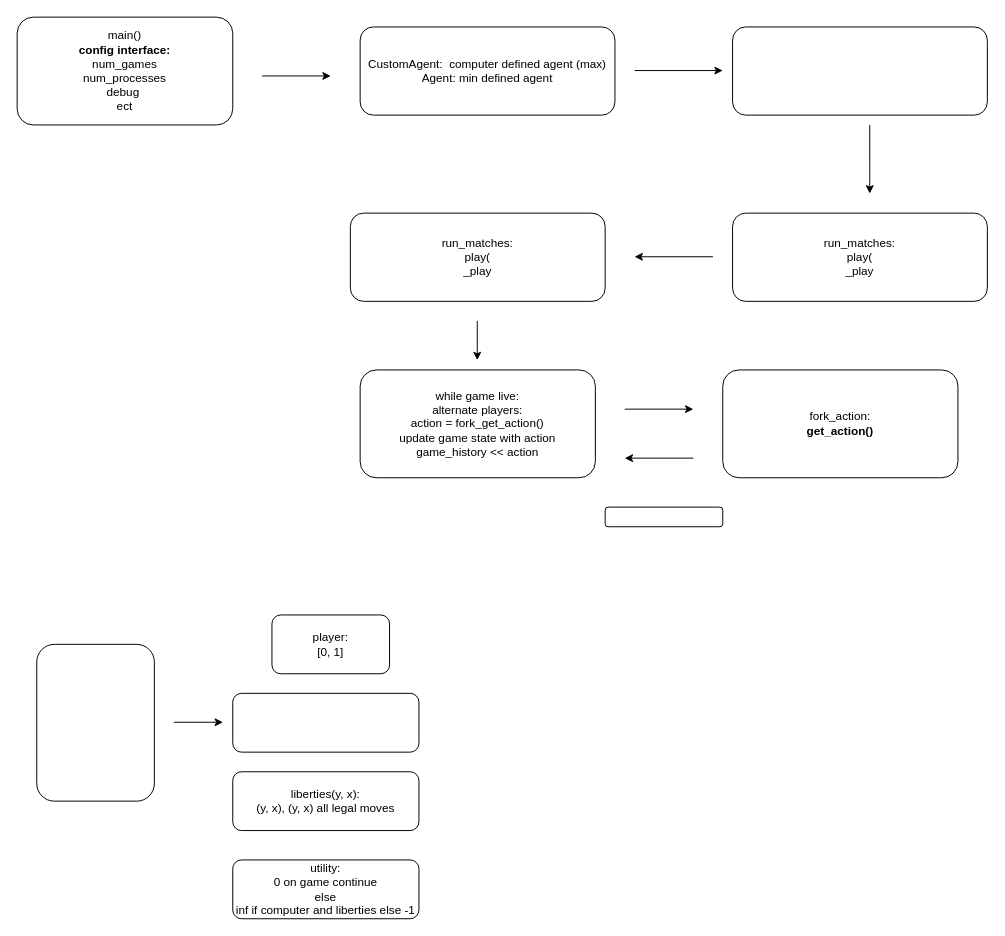
Some shapes in this 1005 by 936 pixel diagram are drawn without their labels. Here are the shapes that lost their labels. From the top down, the centre of each, then its label:
point 859,70: play_matches: [Match((players), isolation, config)] run_matches(*Match)
point 663,516: returns optimal move
point 95,722: Isolation:
point 325,722: result(y, x): -> new game configuration
